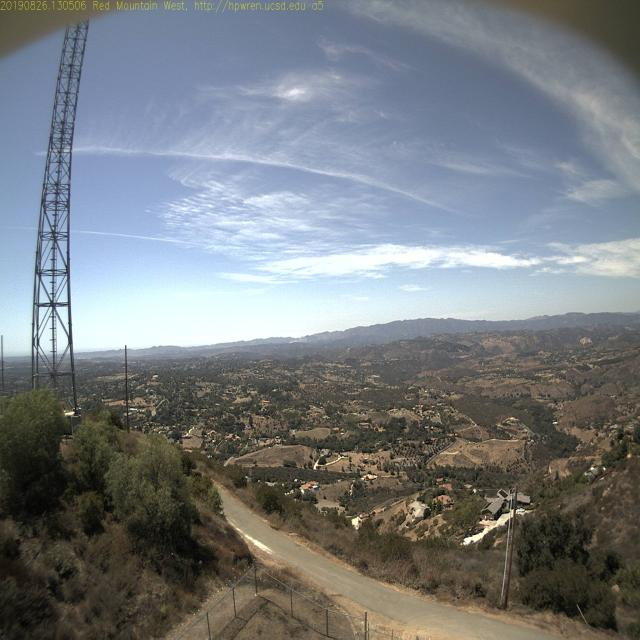smoke: (288, 335, 300, 347)
